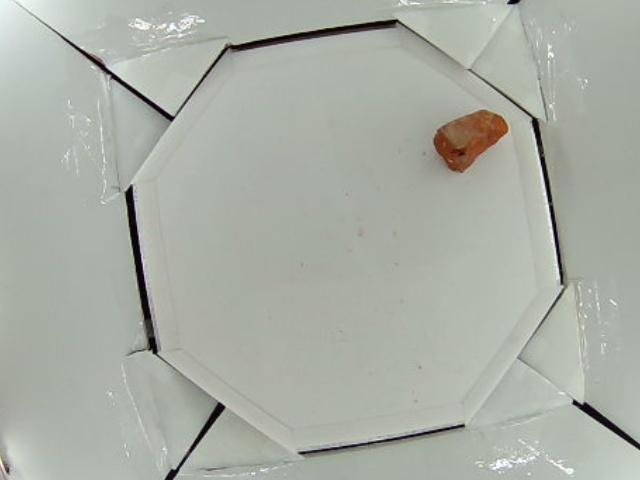Brisk: (434, 108, 511, 170)
